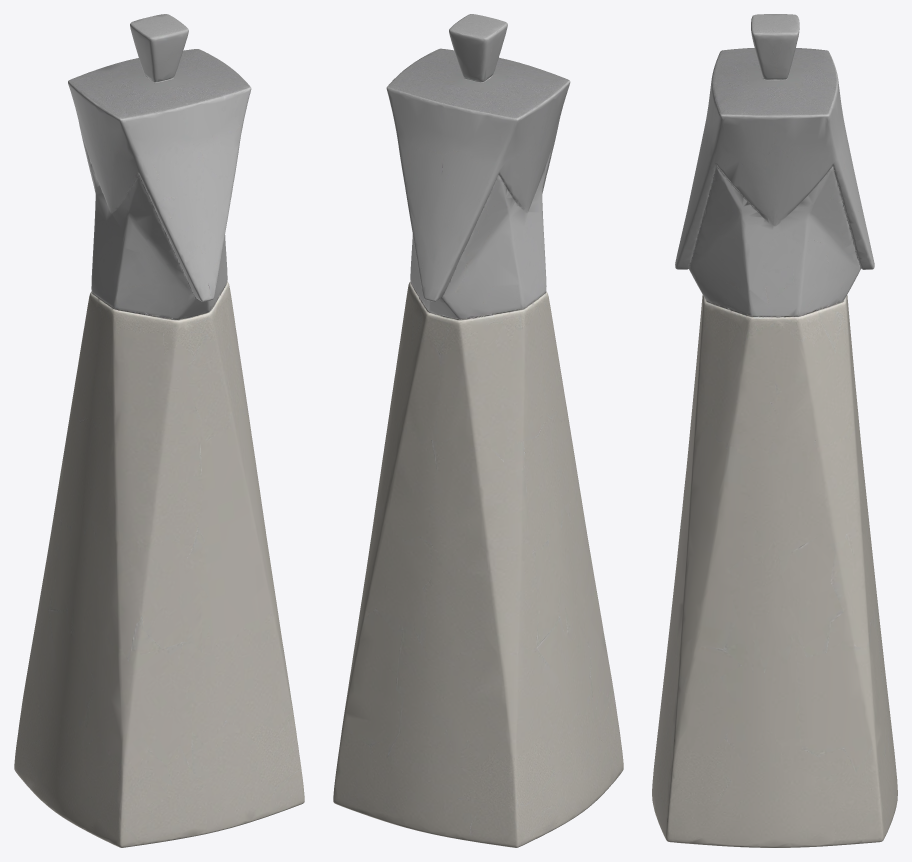
The model's file is king-white-hd.glb.
3 renders of one model, left to right at view 1: azimuth 30°, elevation 25°; view 2: azimuth 150°, elevation 25°; view 3: azimuth 270°, elevation 25°, orthographic.
Size of the model in its own units: 0.4993 by 1.75 by 0.4993.
Materials: 1 (1 with a texture image).
